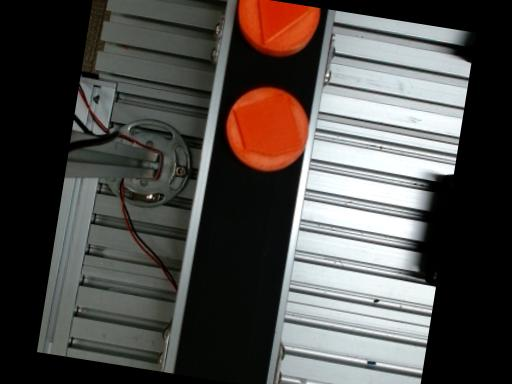Not_Square: (233, 92, 303, 156), (259, 0, 311, 44)
Orange_Waper: (226, 86, 308, 171), (238, 0, 320, 56)
